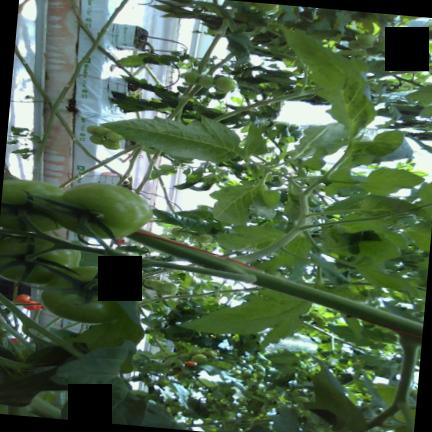6kp_peduncle: (222, 85, 279, 196), (163, 249, 281, 291)
6kp_petiole: (185, 243, 283, 291)
MainStem: (125, 229, 423, 343), (213, 88, 317, 121)
tomato: (45, 183, 152, 238), (41, 266, 136, 323), (0, 237, 80, 284), (0, 177, 64, 231), (13, 294, 41, 310), (214, 77, 237, 91), (250, 2, 278, 13), (375, 38, 397, 51), (357, 34, 377, 48), (183, 71, 199, 85), (13, 294, 35, 303), (198, 76, 214, 88), (104, 131, 123, 141), (101, 139, 120, 149), (381, 49, 401, 58), (160, 282, 177, 292), (347, 40, 362, 51), (195, 234, 212, 243), (220, 410, 235, 420), (95, 126, 109, 136), (365, 47, 382, 55), (191, 354, 206, 363), (89, 135, 103, 144), (149, 280, 163, 289), (293, 396, 309, 403), (86, 125, 97, 134), (170, 227, 181, 236), (188, 349, 202, 356), (265, 271, 281, 277), (203, 350, 216, 357), (178, 354, 190, 361), (183, 361, 197, 367), (178, 232, 191, 237), (292, 389, 301, 396), (144, 279, 152, 286)
